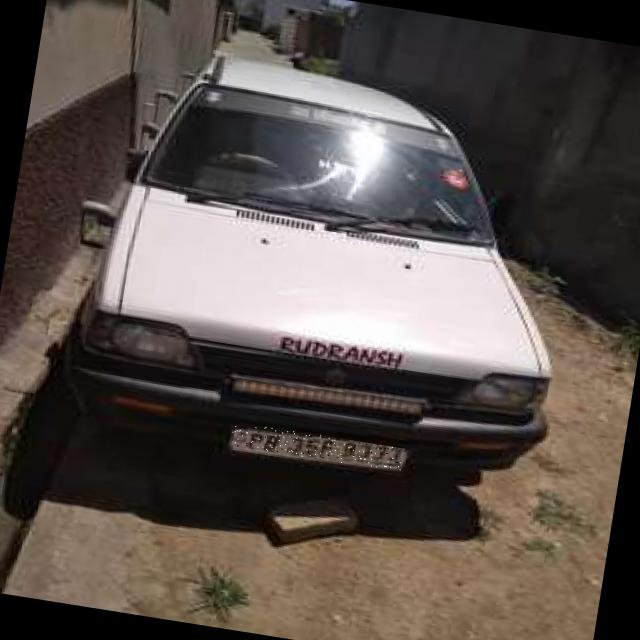Plate: (229, 423, 406, 474)
